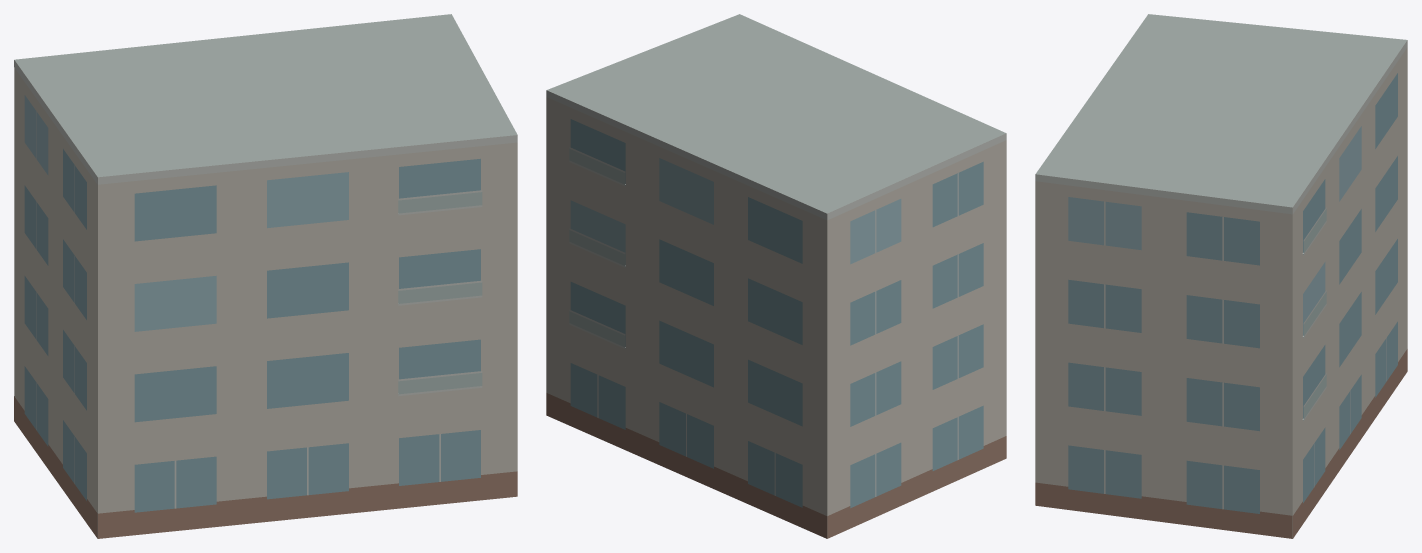
The model's file is survey-upis-32943794.glb.
3 views of the same model, side by side, from view 1: azimuth 30°, elevation 25°; view 2: azimuth 150°, elevation 25°; view 3: azimuth 270°, elevation 25° (orthographic). The views are drawn at different scales.
Visible parts, largest first — view 1: survey-upis-32943794.tmp; view 2: survey-upis-32943794.tmp; view 3: survey-upis-32943794.tmp.
Part boxes in pixels (x1,y1,x2,y2): survey-upis-32943794.tmp: (14,14,517,538); survey-upis-32943794.tmp: (546,14,1006,538); survey-upis-32943794.tmp: (1035,14,1407,538).
Size of the model in its own units: 14.73 by 11.75 by 11.97.
